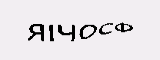І: (46, 22, 59, 43)
О: (79, 22, 97, 40)
С: (99, 19, 114, 38)
Ф: (115, 19, 134, 36)
Ч: (55, 22, 79, 41)
Я: (24, 23, 47, 42)
